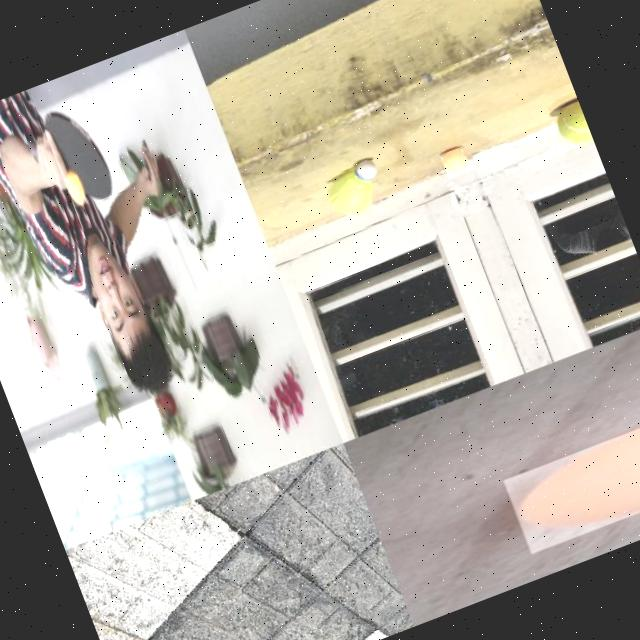ping-pong-ball: (503, 406, 640, 554), (440, 146, 472, 178), (64, 172, 89, 207)
